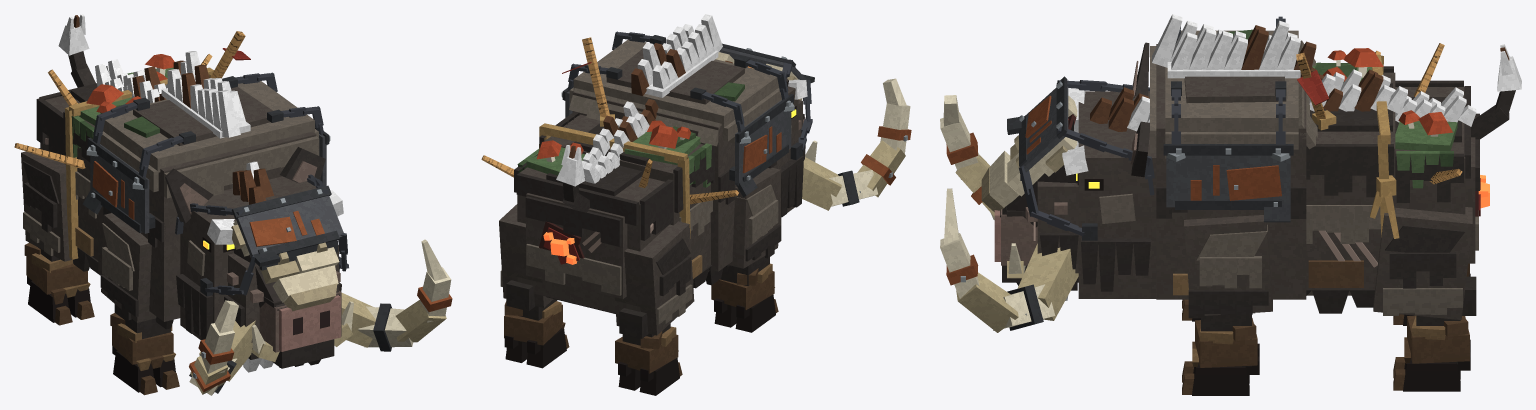
Rendered from fmob_tusker.glb.
3 views of the same model, side by side, from view 1: azimuth 30°, elevation 25°; view 2: azimuth 150°, elevation 25°; view 3: azimuth 270°, elevation 25° (orthographic). The views are drawn at different scales.
Parts seen in each view (by area): view 1: fmob_tusker, head, leg_fr, leg_br, armor_head, armor_r, jaw, armor_l, sway_tail; view 2: fmob_tusker, leg_br, head, leg_fr, leg_bl, armor_r, armor_head, sway_tail, weak_rump, armor_l; view 3: fmob_tusker, head, leg_bl, leg_fl, armor_l, armor_head, sway_tail, jaw.
Part boxes in pixels (box(x1,y1,x2,y2)): fmob_tusker: box(14, 31, 319, 329); head: box(165, 147, 452, 395); leg_fr: box(100, 213, 179, 395); leg_br: box(21, 148, 94, 325); armor_head: box(175, 174, 348, 296); armor_r: box(82, 97, 195, 233); jaw: box(243, 301, 353, 372); armor_l: box(222, 72, 330, 186); sway_tail: box(58, 14, 95, 87); fmob_tusker: box(481, 14, 781, 314); leg_br: box(615, 221, 694, 395); head: box(716, 52, 911, 217); leg_fr: box(711, 167, 781, 332); leg_bl: box(499, 204, 569, 368); armor_r: box(690, 55, 794, 197); armor_head: box(719, 43, 814, 160); sway_tail: box(556, 145, 589, 212); weak_rump: box(539, 221, 584, 264); armor_l: box(561, 31, 665, 117); fmob_tusker: box(1150, 14, 1479, 313); head: box(940, 42, 1156, 332); leg_bl: box(1373, 207, 1476, 391); leg_fl: box(1182, 215, 1272, 395); armor_l: box(1163, 81, 1293, 222); armor_head: box(1007, 76, 1154, 240); sway_tail: box(1471, 44, 1521, 139); jaw: box(1002, 243, 1078, 300).
Size of the model in its own units: 2.96 by 3.27 by 5.24.
Materials: 36 (24 with a texture image).
